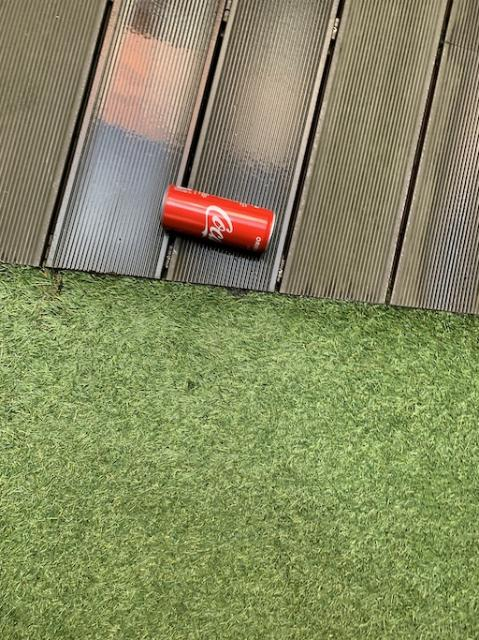metal: (159, 182, 275, 254)
